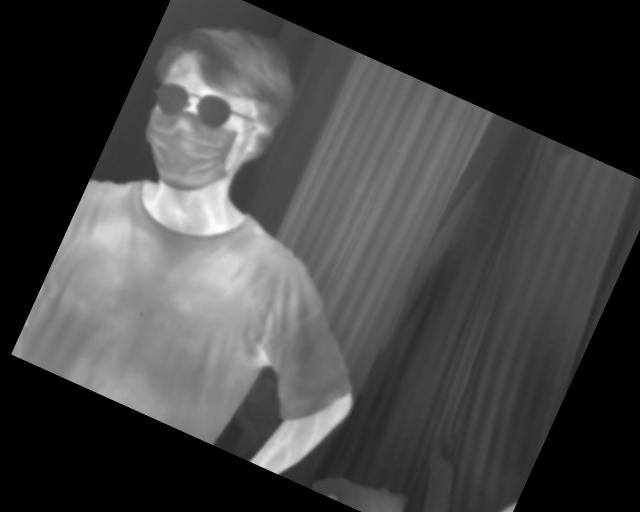face: (117, 3, 313, 219)
